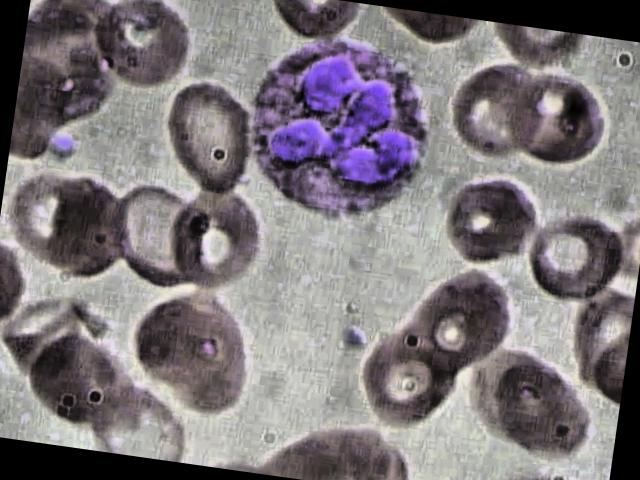Platelets: (45, 127, 85, 169), (336, 320, 370, 356)
RBC: (148, 72, 264, 202), (25, 322, 150, 442), (400, 260, 521, 382), (354, 310, 475, 432), (166, 174, 272, 296), (503, 58, 611, 172), (438, 162, 546, 276), (522, 190, 630, 304), (445, 50, 553, 163), (485, 353, 599, 458), (39, 169, 143, 283), (91, 0, 199, 92)
WBC: (225, 25, 442, 239)
